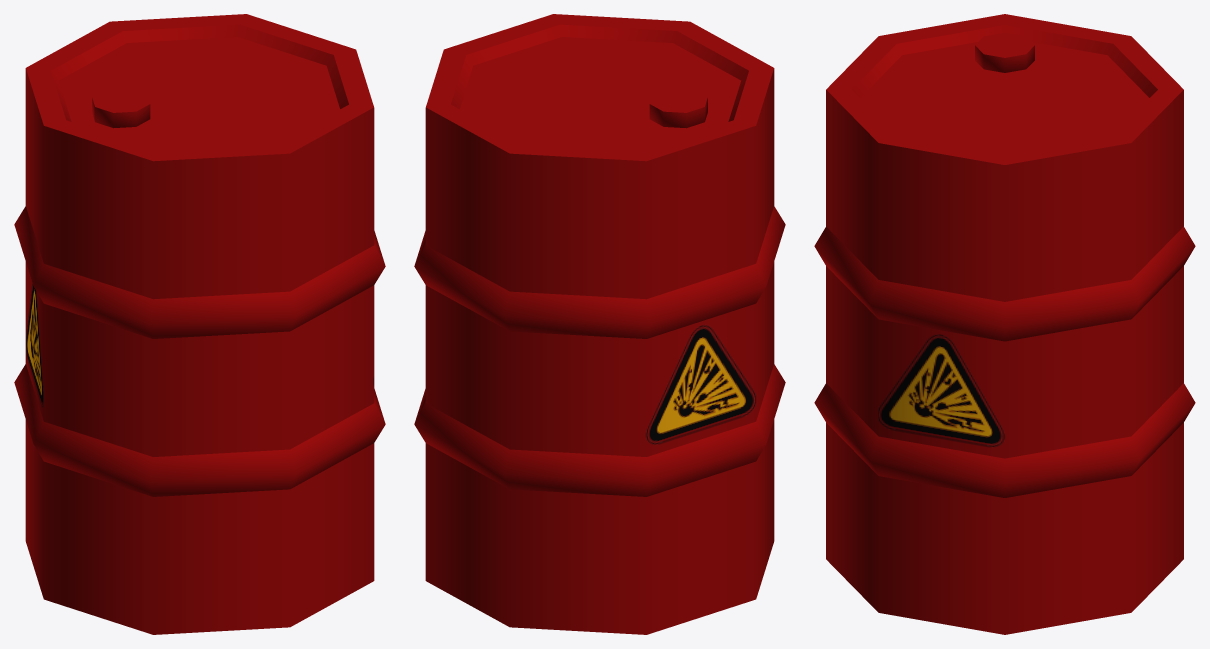
File: Barrel.fbx
The picture shows the model from 3 angles, left to right: view 1: azimuth 30°, elevation 25°; view 2: azimuth 150°, elevation 25°; view 3: azimuth 270°, elevation 25°; orthographic projection.
Visible parts, largest first — view 1: ExplosiveBarrel; view 2: ExplosiveBarrel; view 3: ExplosiveBarrel.
Part boxes in pixels (x1,y1,x2,y2): ExplosiveBarrel: [14, 14, 385, 634]; ExplosiveBarrel: [414, 14, 785, 634]; ExplosiveBarrel: [814, 14, 1195, 634].
Bounding box in the file's own units: 0.6175 × 0.8504 × 0.6175.
1 material, 1 textured.
